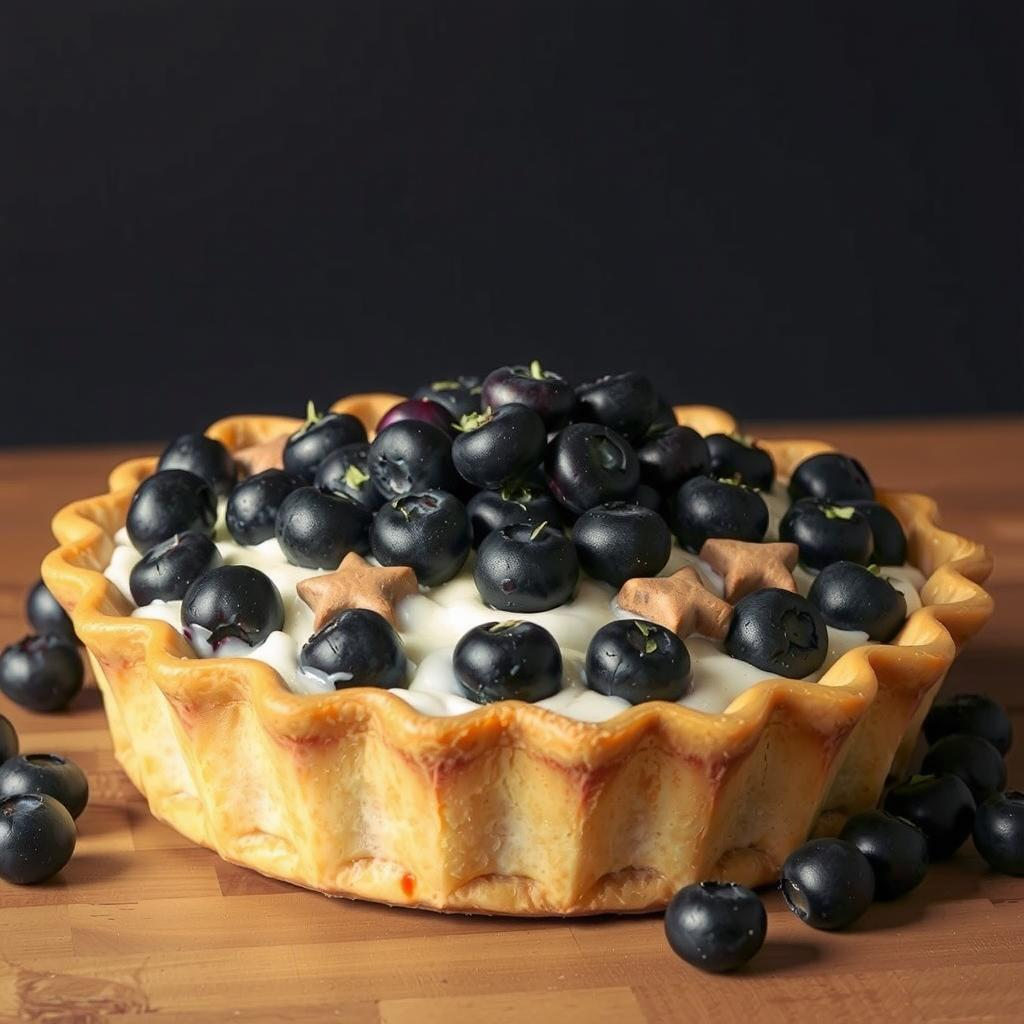pie: (29, 357, 1006, 920)
